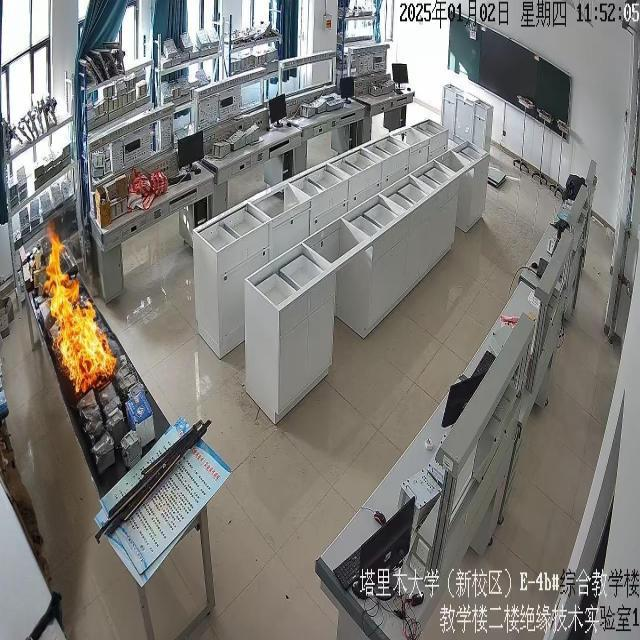smoke: (43, 224, 114, 394)
